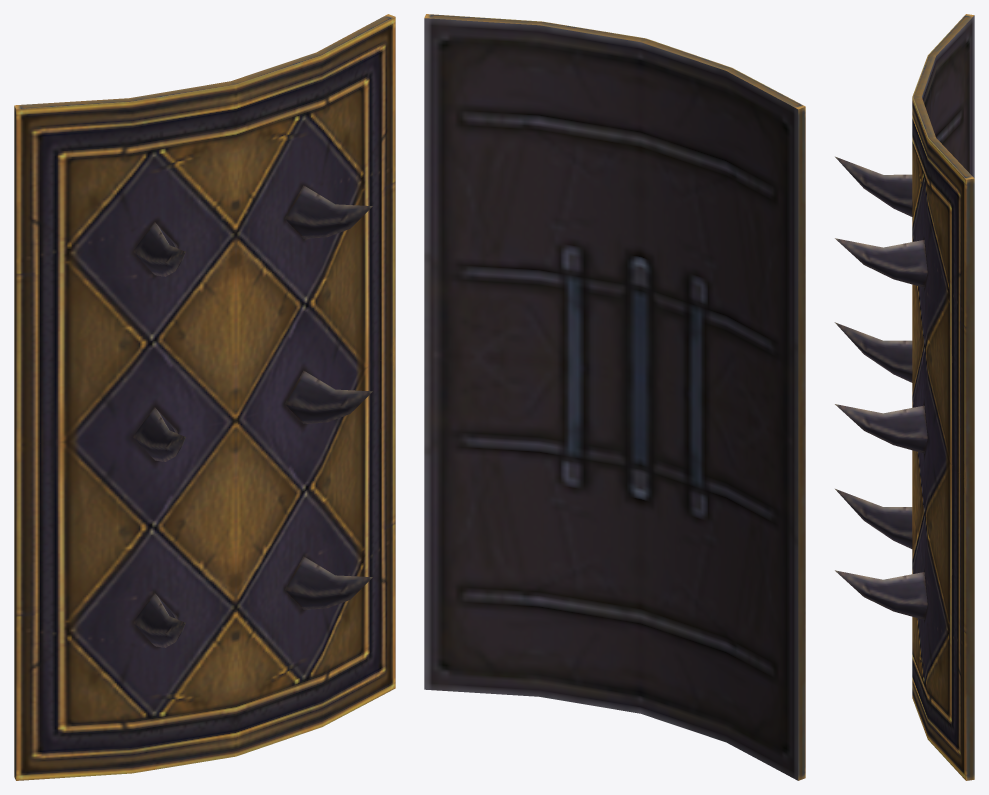
The model's file is Shield16.FBX.
3 renders of one model, left to right at view 1: azimuth 30°, elevation 25°; view 2: azimuth 150°, elevation 25°; view 3: azimuth 270°, elevation 25°, orthographic. The views are drawn at different scales.
Visible parts, largest first — view 1: Shield16; view 2: Shield16; view 3: Shield16.
Boxes of the visible parts, x1,y1,x2,y2 form: Shield16: (14, 14, 395, 780); Shield16: (424, 14, 805, 780); Shield16: (834, 14, 974, 780).
Size of the model in its own units: 60.53 by 102 by 21.63.
